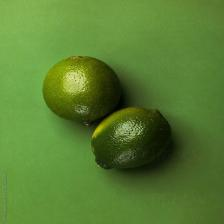green: (43, 56, 121, 126), (92, 107, 172, 169)
